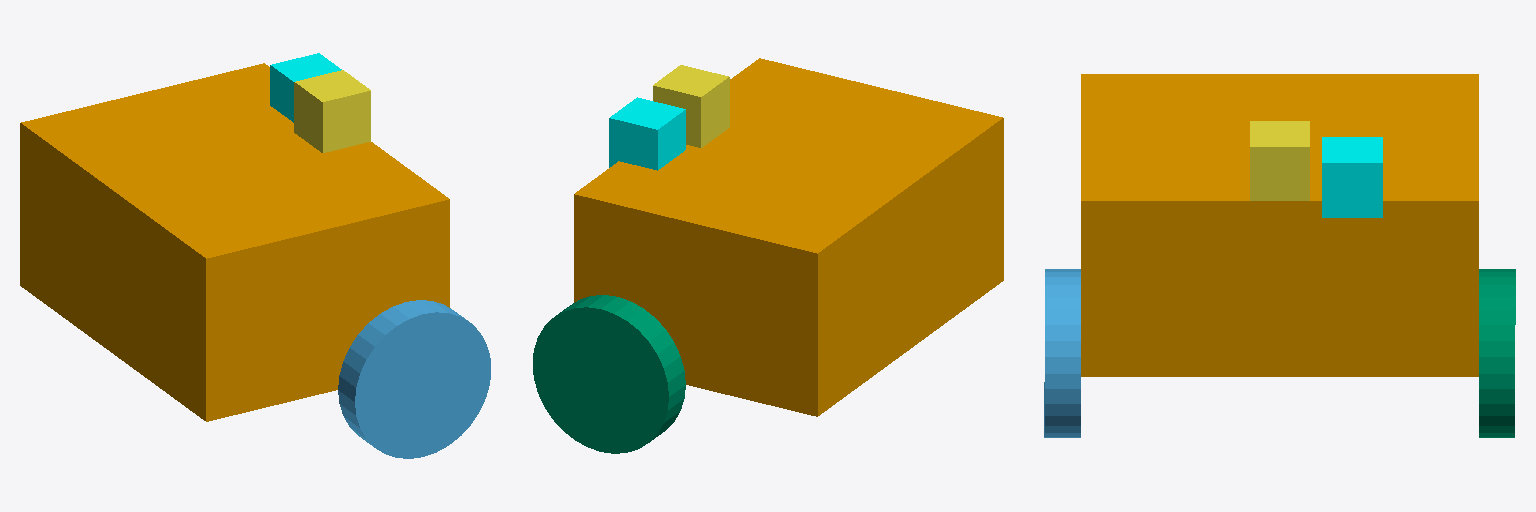
robot.urdf — MARRtino:
<?xml version="1.0"?>
<robot name="MARRtino">
    <link name="base_link">
        <visual>
            <geometry>
                <box size="0.25 0.33 0.16"/>
            </geometry>
        </visual>
    </link>
    <link name="right_wheel_link">
        <visual>
            <geometry>
                <cylinder length="0.03" radius="0.07"/>
            </geometry>
            <origin rpy="1.57 0 0"/>
        </visual>
    </link>
    <link name="left_wheel_link">
        <visual>
            <geometry>
                <cylinder length="0.03" radius="0.07"/>
            </geometry>
            <origin rpy="1.57 0 0"/>
        </visual>
    </link>
    <link name="laser">
       <visual>
           <geometry>
               <box size="0.05 0.05 0.05"/>
           </geometry>
       </visual>
    </link>
    <link name="camera_link">
       <visual>
           <geometry>
               <box size="0.05 0.05 0.05"/>
           </geometry>
					 <material name="Cyan">
               <color rgba="0 1.0 1.0 1.0"/>
     			 </material>
       </visual>
    </link>


    <joint name="base_link_to_laser_link" type="fixed">
        <parent link="base_link"/>
        <child link="laser"/>
        <origin xyz="0.1 0 0.105" rpy="0 0 3.1416"/>
    </joint>
    <joint name="base_link_to_left_wheel_link" type="fixed">
        <parent link="base_link"/>
        <child link="left_wheel_link"/>
        <origin xyz="0.08 0.18 -0.08"/>
    </joint>
    <joint name="base_link_to_right_wheel_link" type="fixed">
        <parent link="base_link"/>
        <child link="right_wheel_link"/>
        <origin xyz="0.08 -0.18 -0.08"/>
    </joint>
    <joint name="base_link_to_camera_link" type="fixed">
        <parent link="base_link"/>
        <child link="camera_link"/>
        <origin xyz="0.11 0.06 0.095" rpy="1.5707 3.1416 1.5707"/>
    </joint>

</robot>

--- What the picture shows (computed from the rendered views, not written in the file) ---
Views: 3 orthographic renders of the robot side by side, from view 1: azimuth 30°, elevation 25°; view 2: azimuth 150°, elevation 25°; view 3: azimuth 270°, elevation 25°.
Robot: MARRtino — 5 links, 4 joints (4 fixed); root link base_link; default pose: all joints at 0.
Visible links, largest first — view 1: base_link, right_wheel_link, laser, camera_link; view 2: base_link, left_wheel_link, camera_link, laser; view 3: base_link, right_wheel_link, left_wheel_link, camera_link, laser.
Link boxes in pixels (x1,y1,x2,y2): base_link: (20, 63, 449, 421); right_wheel_link: (338, 300, 490, 458); laser: (294, 70, 370, 152); camera_link: (270, 53, 341, 122); base_link: (574, 58, 1003, 416); left_wheel_link: (533, 295, 685, 453); camera_link: (609, 97, 685, 170); laser: (653, 65, 729, 147); base_link: (1081, 74, 1478, 376); right_wheel_link: (1044, 269, 1080, 437); left_wheel_link: (1479, 269, 1515, 437); camera_link: (1322, 137, 1382, 217); laser: (1250, 121, 1309, 200).
Size in the robot's own frame: 0.275 by 0.3901 by 0.28 metres.
Geometry: primitives only (box / cylinder / sphere), no mesh files.
